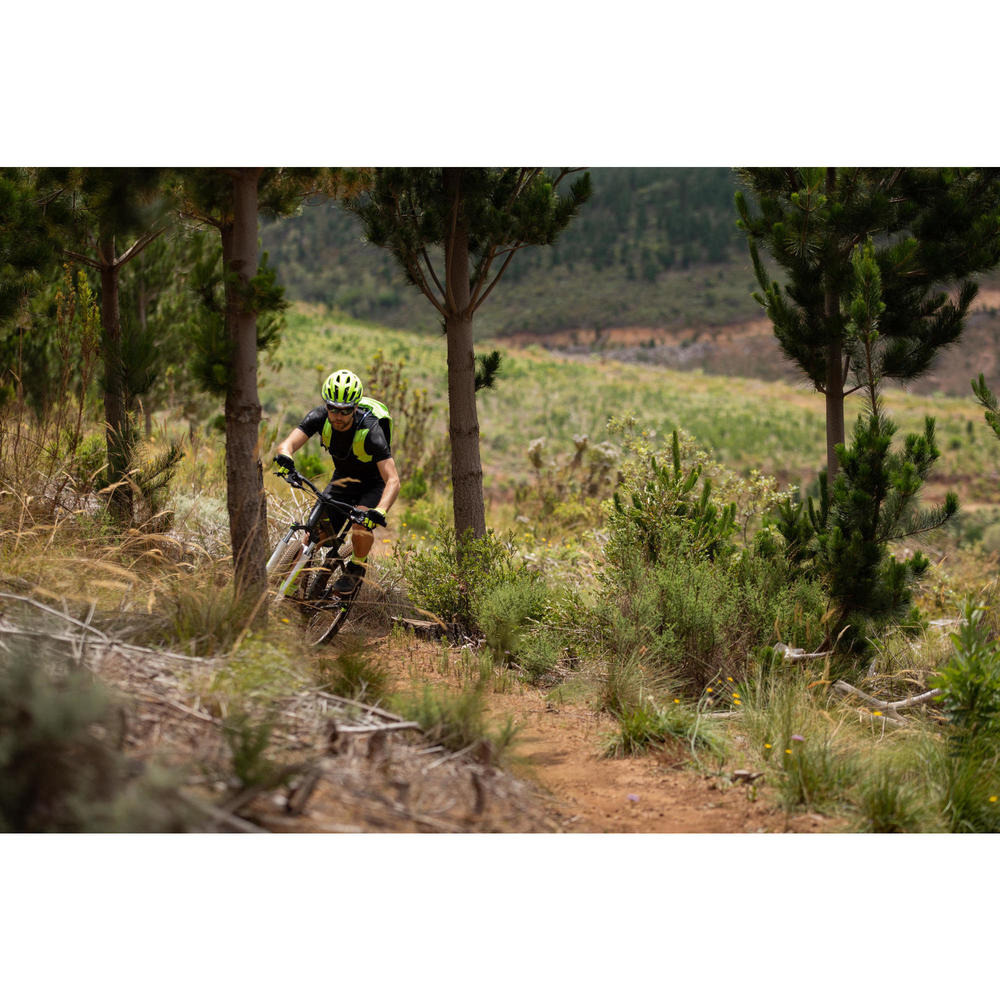MountainBike: (254, 449, 398, 657)
